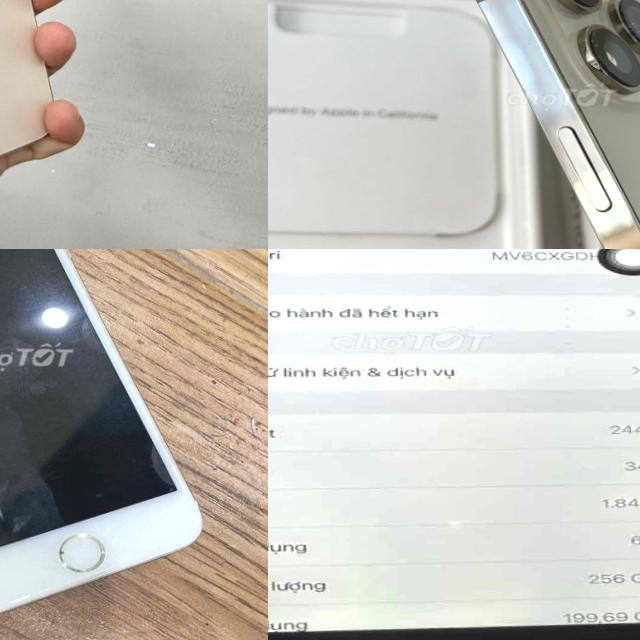scratch: (55, 548, 77, 554)
